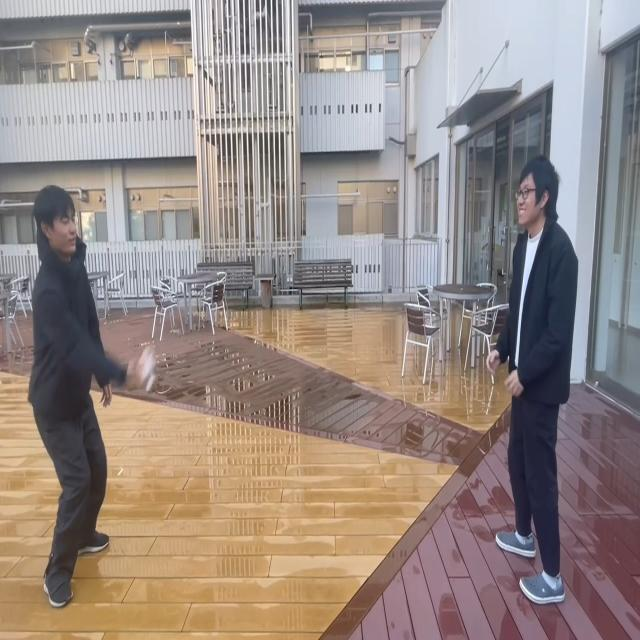bottle: (137, 343, 157, 381), (489, 359, 495, 385), (490, 371, 494, 385)
